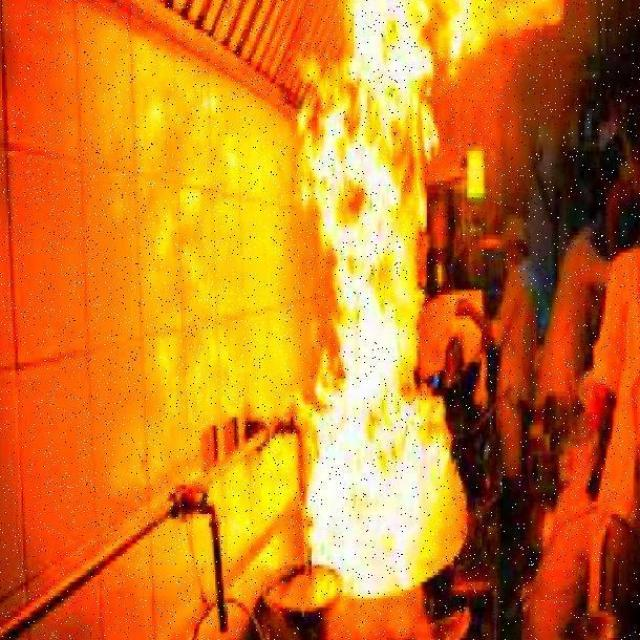smoke: (291, 0, 474, 601)
